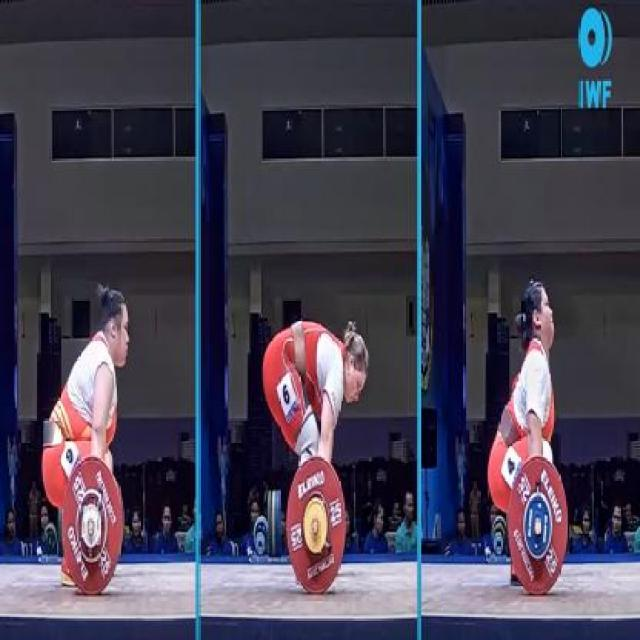Barbell: (532, 512, 543, 540), (84, 514, 96, 538), (309, 516, 322, 538)
